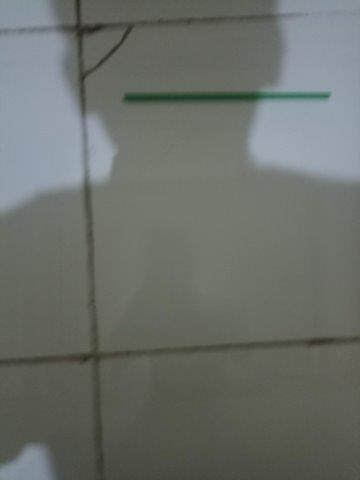sedotan: (124, 91, 331, 101)
